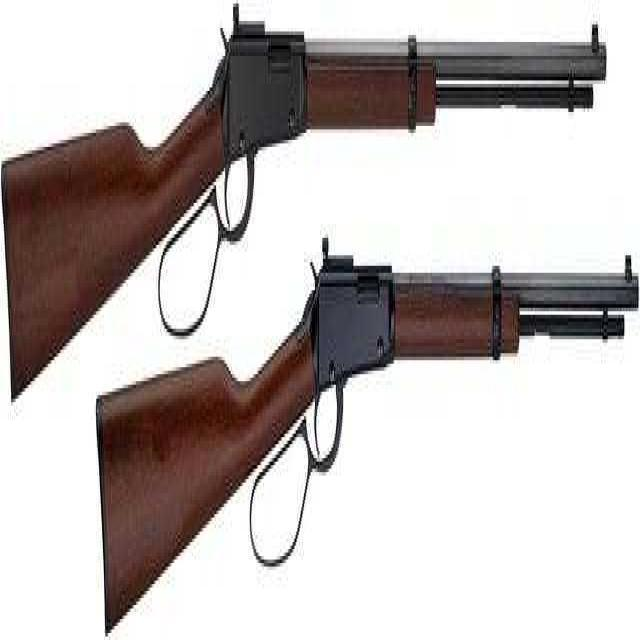weapon: (4, 0, 607, 423), (94, 178, 637, 640)
